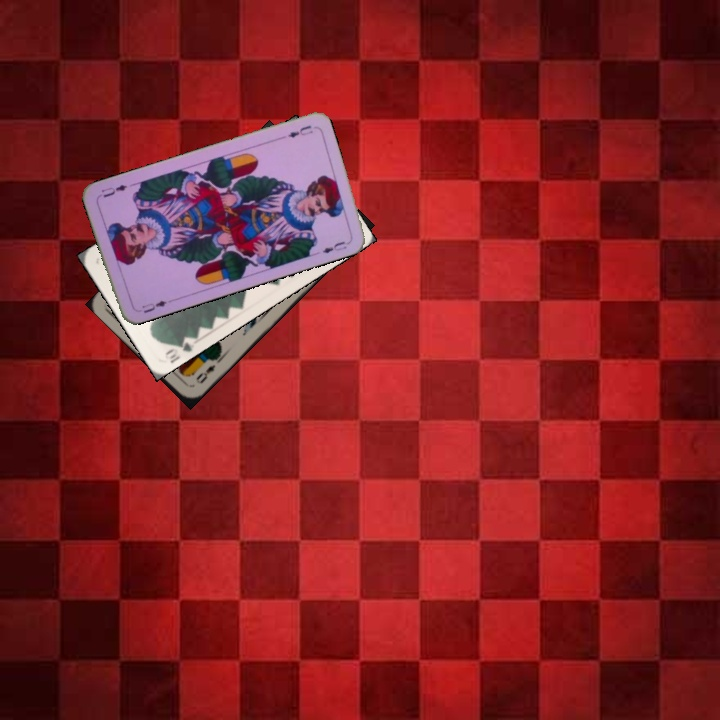EO: (192, 360, 218, 386)
EU: (138, 296, 169, 316), (284, 121, 315, 140)
G10: (161, 333, 196, 365)
